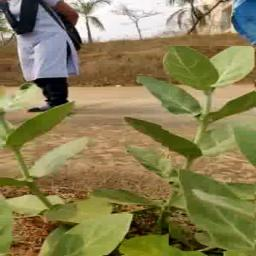Calotropis: (0, 83, 162, 256), (169, 46, 255, 252)
